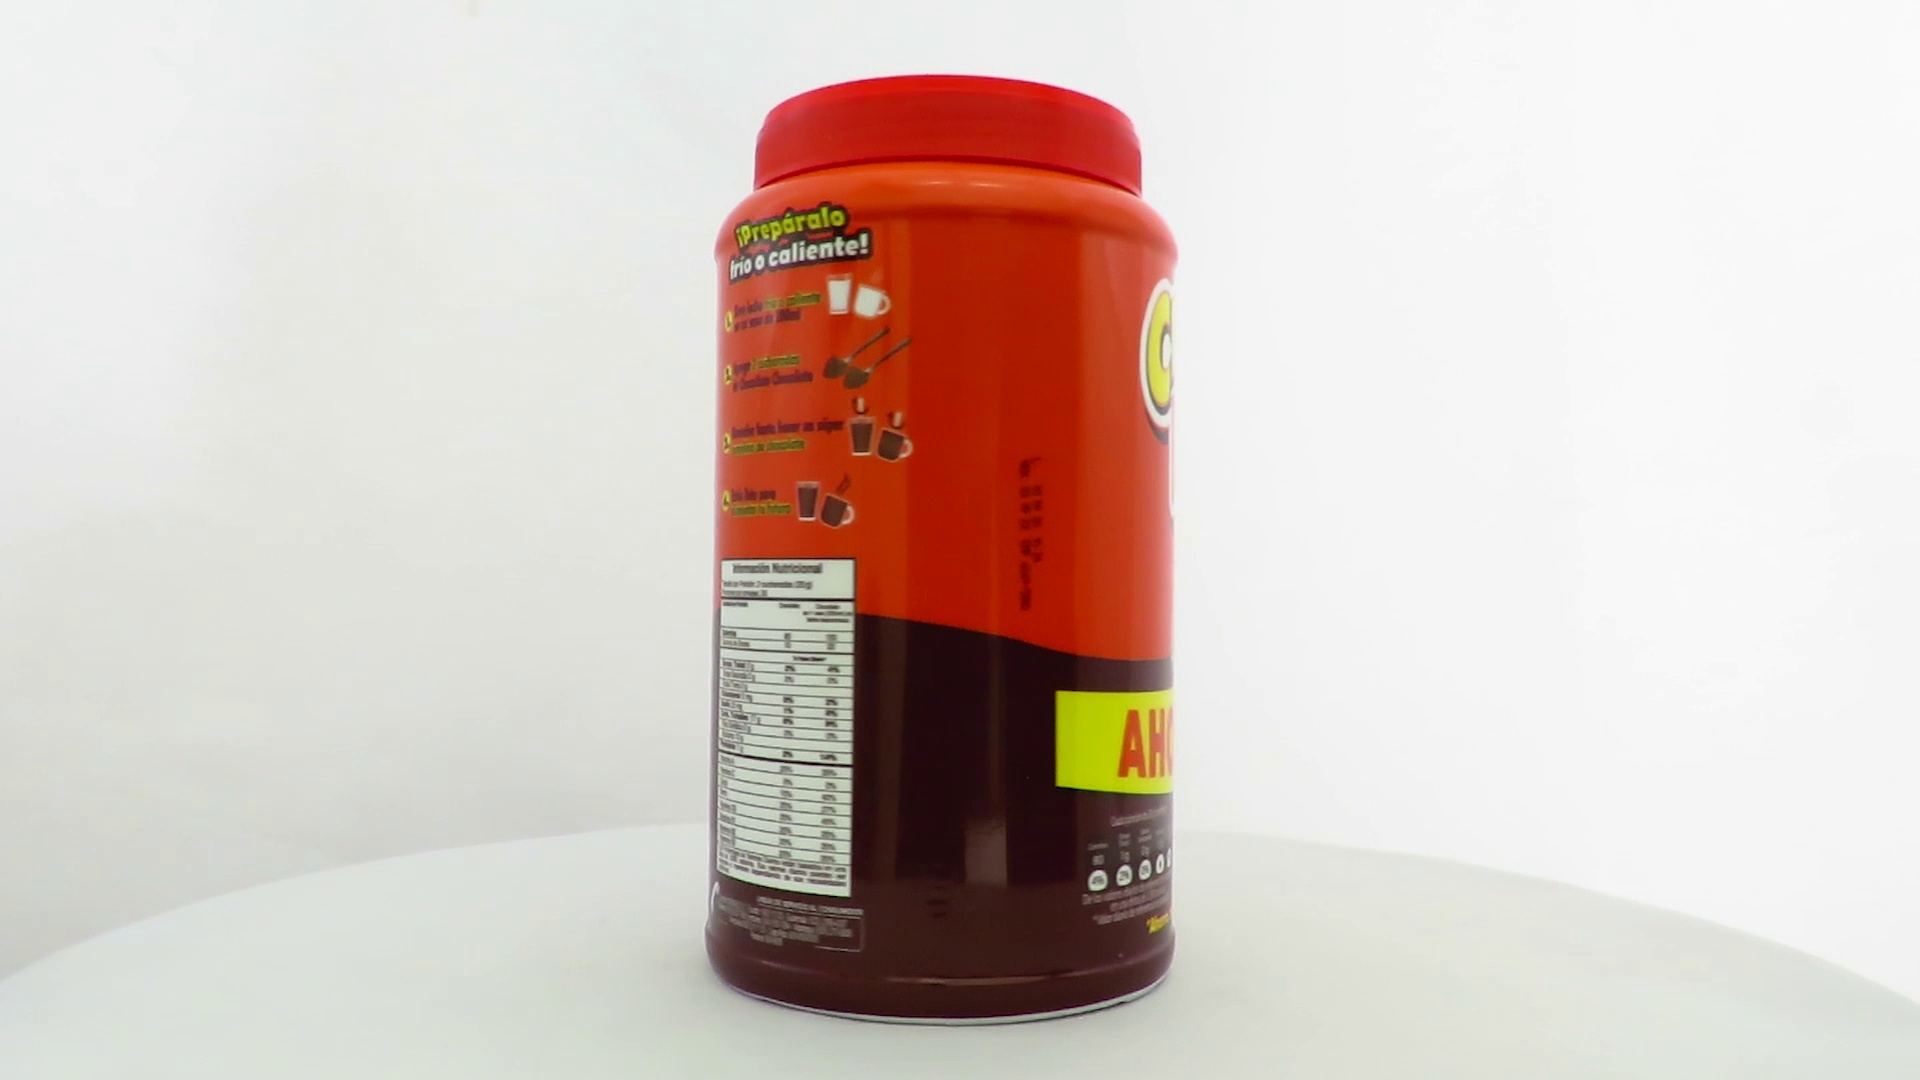COL0170103TRR00100: (699, 69, 1185, 1033)
